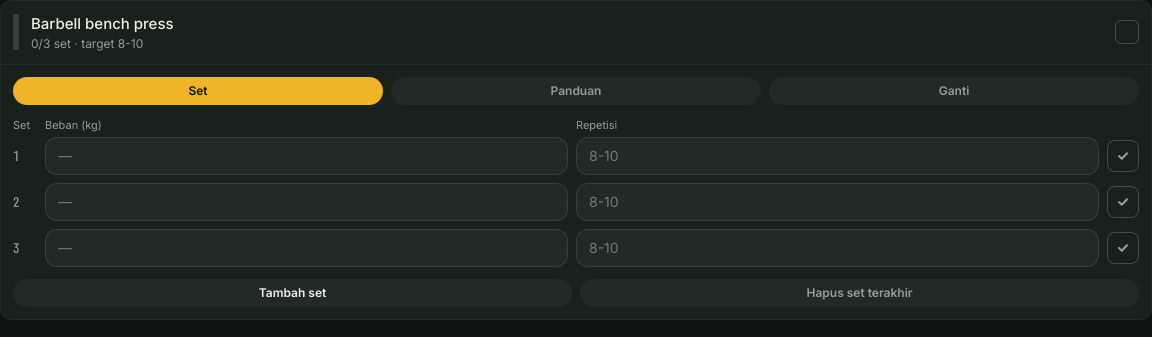
Test: TaskRow — panduan dan ganti gerakan › menampilkan aba-aba dan kesalahan umum di panel panduan
Click the button "Panduan" at [576, 90], box [391,76,761,104]
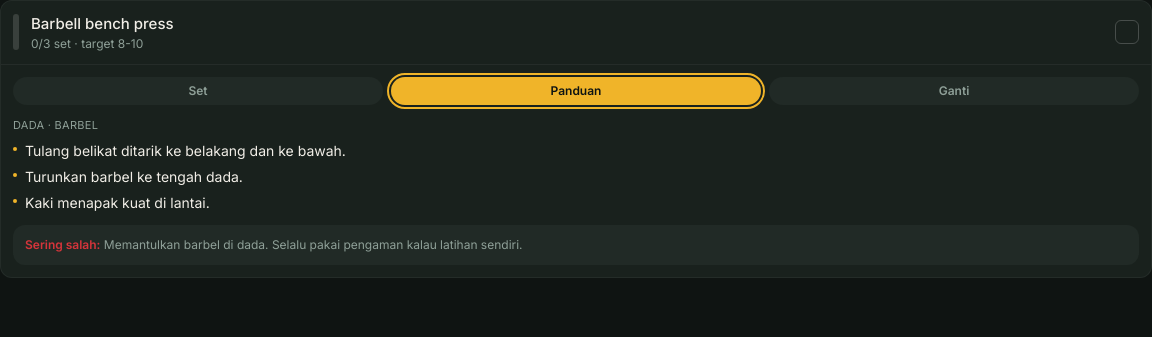
Check: the text "Sering salah:" is shown, box [25,237,100,252]
Check: the list item "Tulang belikat ditarik ke belakang dan ke bawah." is shown, box [13,142,346,159]
